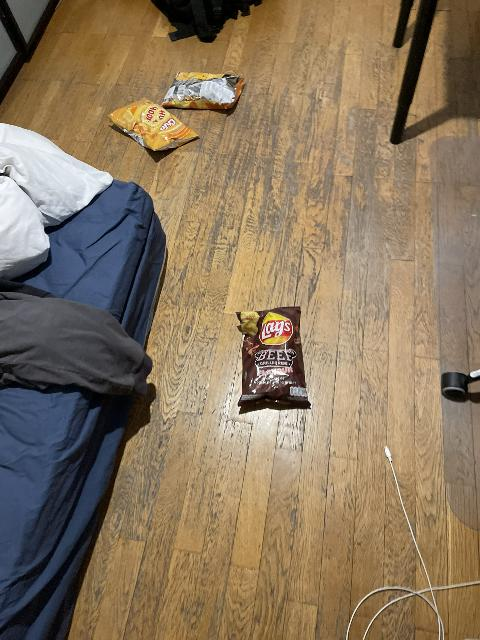Chio Cascaval 125g: (161, 71, 244, 110)
Chio Hula Hoops Cheese 70g: (107, 98, 202, 152)
Lays Beef Grilled Ribs 125g: (235, 305, 314, 410)
